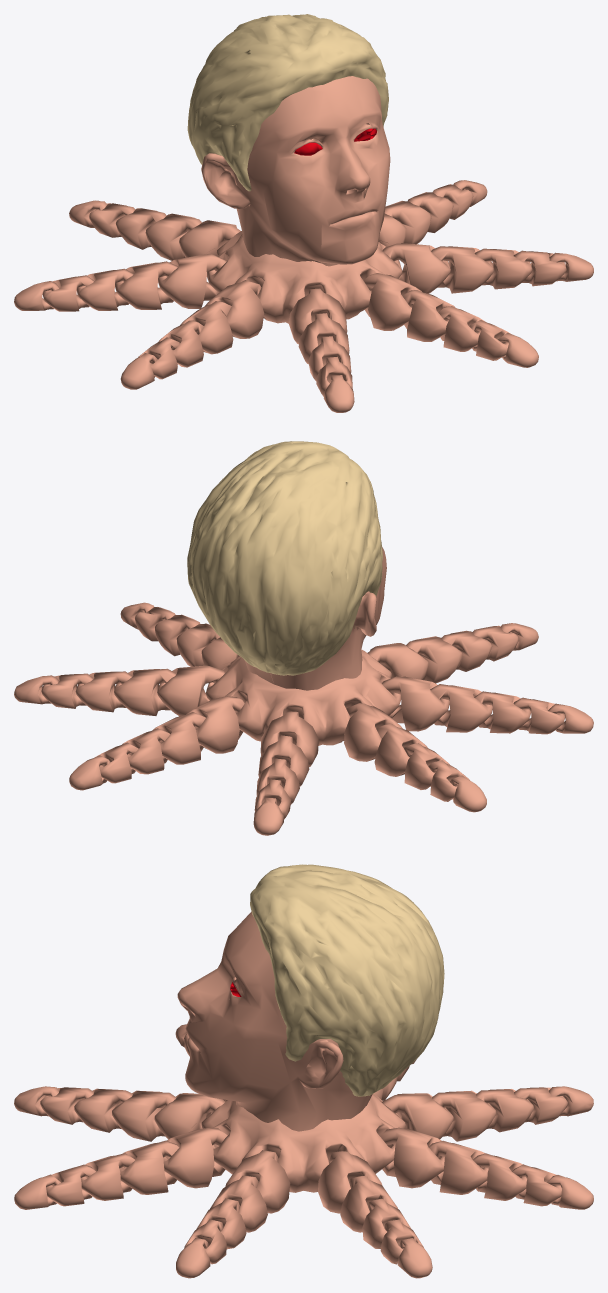
Rendered from joni.glb.
The picture shows the model from 3 angles, top to bottom: view 1: azimuth 30°, elevation 25°; view 2: azimuth 150°, elevation 25°; view 3: azimuth 270°, elevation 25°; orthographic projection. The views are drawn at different scales.
Visible parts, largest first — view 1: Octopus_v6; view 2: Octopus_v6; view 3: Octopus_v6.
Boxes of the visible parts, x1,y1,x2,y2 form: Octopus_v6: (14,14,593,412); Octopus_v6: (14,441,593,835); Octopus_v6: (14,864,593,1278).
Size of the model in its own units: 10.02 by 5.39 by 10.02.
